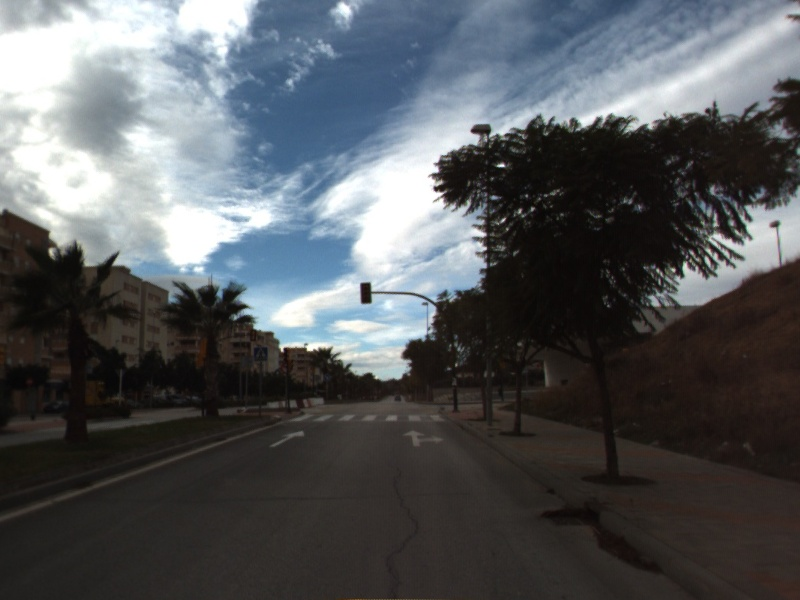STRAIGHT: (267, 428, 307, 449)
STRAIGHT_RIGHT: (401, 428, 446, 449)
